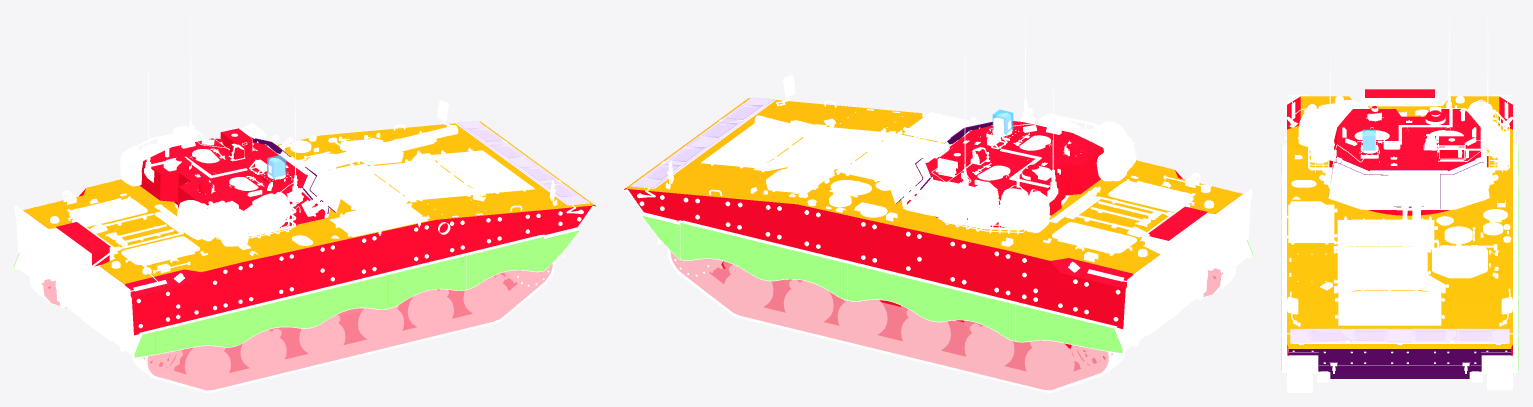
Rendered from ZBD04A.gltf.
The picture shows the model from 3 angles, left to right: view 1: azimuth 30°, elevation 25°; view 2: azimuth 150°, elevation 25°; view 3: azimuth 270°, elevation 25°; orthographic projection. The views are drawn at different scales.
Parts seen in each view (by area): view 1: ZBD04A_Static_1, ZBD04A_Static, ZBD04A_Hull_Col_1, ZBD04A_Tracks_Col_Right_67, ZBD04A_Hull_Col, ZBD04A_Sideskirt_Col_73, ZBD04A_Turret_Col, ZBD04A_Static_2, ZBD04A_Turret_Deco, ZBD04A_Watershield_Col, ZBD04A_Watershield_Col_1, ZBD04A_Static_3 (+1 smaller); view 2: ZBD04A_Static_1, ZBD04A_Static, ZBD04A_Hull_Col_1, ZBD04A_Hull_Col, ZBD04A_Tracks_Col_Left_70, ZBD04A_Sideskirt_Col2_76, ZBD04A_Turret_Col, ZBD04A_Static_2, ZBD04A_Turret_Deco, ZBD04A_Watershield_Col, ZBD04A_Turret_Deco_1, ZBD04A_Watershield_Col_1 (+1 smaller); view 3: ZBD04A_Static_1, ZBD04A_Hull_Col, ZBD04A_Static, ZBD04A_Turret_Col, ZBD04A_Hull_Col_2, ZBD04A_Watershield_Col, ZBD04A_Turret_Deco, ZBD04A_Hull_Col_1, ZBD04A_Watershield_Col_1, ZBD04A_Static_2, ZBD04A_Turret_Deco_1, ZBD04A_Static_3 (+4 smaller).
Part boxes in pixels (<box>): ZBD04A_Static_1: <box>14,14,589,388</box>; ZBD04A_Static: <box>14,124,594,364</box>; ZBD04A_Hull_Col_1: <box>56,188,595,335</box>; ZBD04A_Tracks_Col_Right_67: <box>144,264,552,390</box>; ZBD04A_Hull_Col: <box>23,121,593,297</box>; ZBD04A_Sideskirt_Col_73: <box>134,230,578,357</box>; ZBD04A_Turret_Col: <box>139,128,325,233</box>; ZBD04A_Static_2: <box>29,260,555,392</box>; ZBD04A_Turret_Deco: <box>120,134,292,246</box>; ZBD04A_Watershield_Col: <box>456,121,589,204</box>; ZBD04A_Watershield_Col_1: <box>471,129,574,196</box>; ZBD04A_Static_3: <box>472,130,572,195</box>; ZBD04A_Static_1: <box>630,14,1252,388</box>; ZBD04A_Static: <box>625,100,1252,360</box>; ZBD04A_Hull_Col_1: <box>624,170,1207,357</box>; ZBD04A_Hull_Col: <box>626,98,1243,288</box>; ZBD04A_Tracks_Col_Left_70: <box>671,252,1112,389</box>; ZBD04A_Sideskirt_Col2_76: <box>642,216,1122,352</box>; ZBD04A_Turret_Col: <box>907,121,1103,227</box>; ZBD04A_Static_2: <box>667,248,1235,392</box>; ZBD04A_Turret_Deco: <box>967,113,1136,232</box>; ZBD04A_Watershield_Col: <box>631,97,774,187</box>; ZBD04A_Turret_Deco_1: <box>939,124,1114,224</box>; ZBD04A_Watershield_Col_1: <box>647,106,759,178</box>; ZBD04A_Static_1: <box>1281,14,1518,389</box>; ZBD04A_Hull_Col: <box>1287,96,1512,348</box>; ZBD04A_Static: <box>1283,95,1515,382</box>; ZBD04A_Turret_Col: <box>1329,106,1488,170</box>; ZBD04A_Hull_Col_2: <box>1288,349,1511,378</box>; ZBD04A_Watershield_Col: <box>1290,328,1509,343</box>; ZBD04A_Turret_Deco: <box>1298,99,1500,163</box>; ZBD04A_Hull_Col_1: <box>1287,89,1512,355</box>; ZBD04A_Watershield_Col_1: <box>1310,331,1489,340</box>; ZBD04A_Static_2: <box>1287,355,1512,392</box>; ZBD04A_Turret_Deco_1: <box>1317,106,1509,169</box>; ZBD04A_Static_3: <box>1311,332,1487,339</box>.
Bounding box in the file's own units: 7.21 × 4.18 × 3.23.
